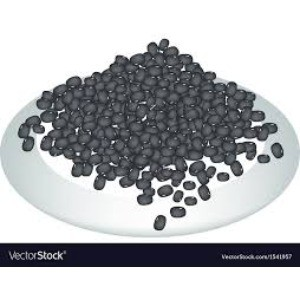beans_brain food: (60, 73, 233, 153)
